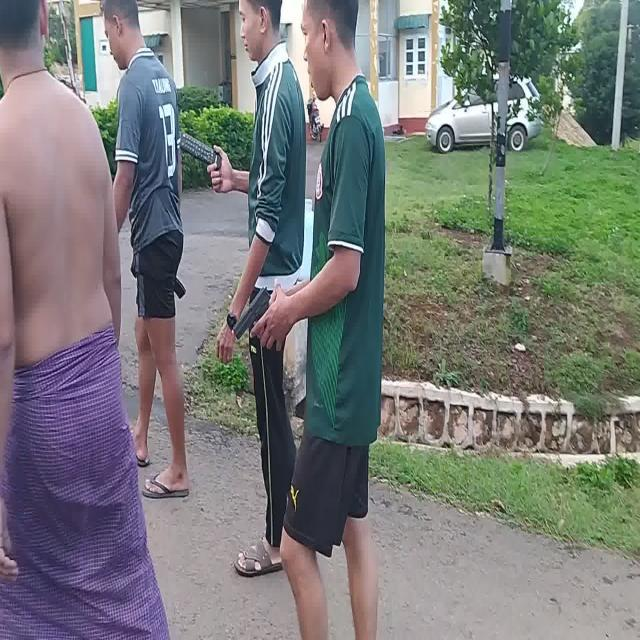gun: (231, 290, 269, 340)
